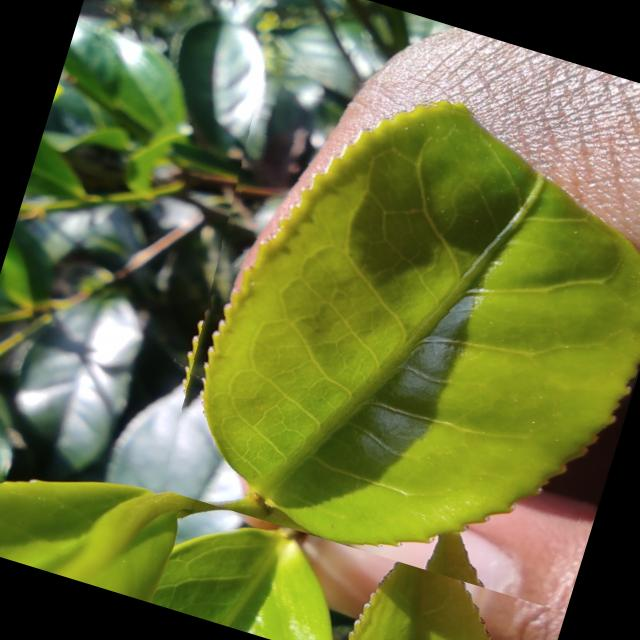Category B(2-4 days): (136, 49, 640, 612)
